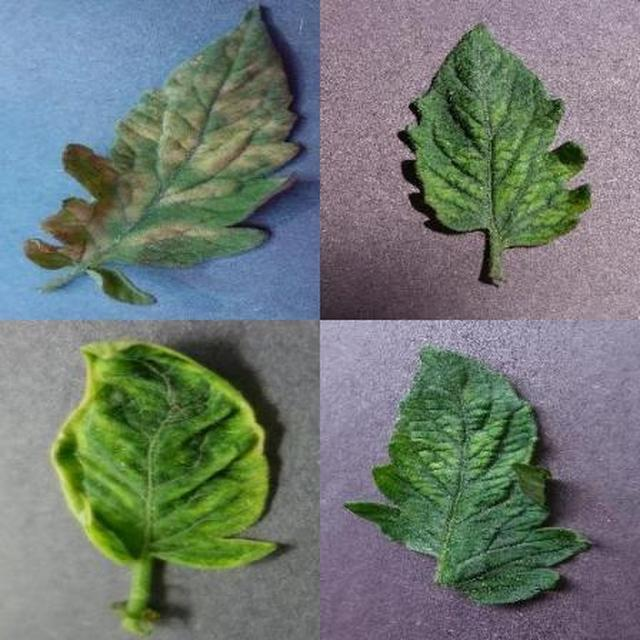Leaf Mold: (234, 191, 640, 640)
